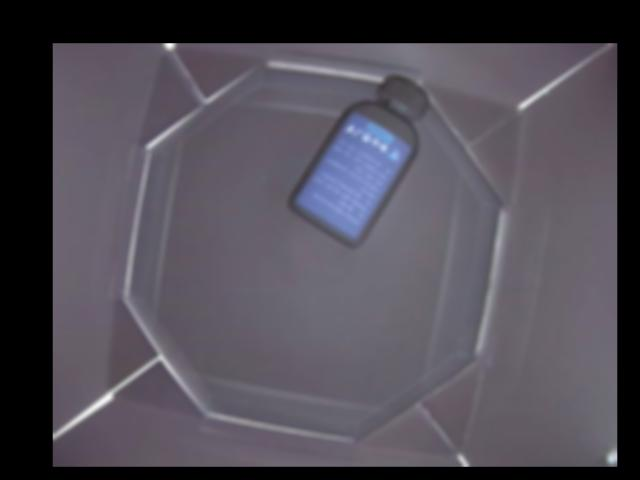Bottle: (289, 73, 428, 247)
